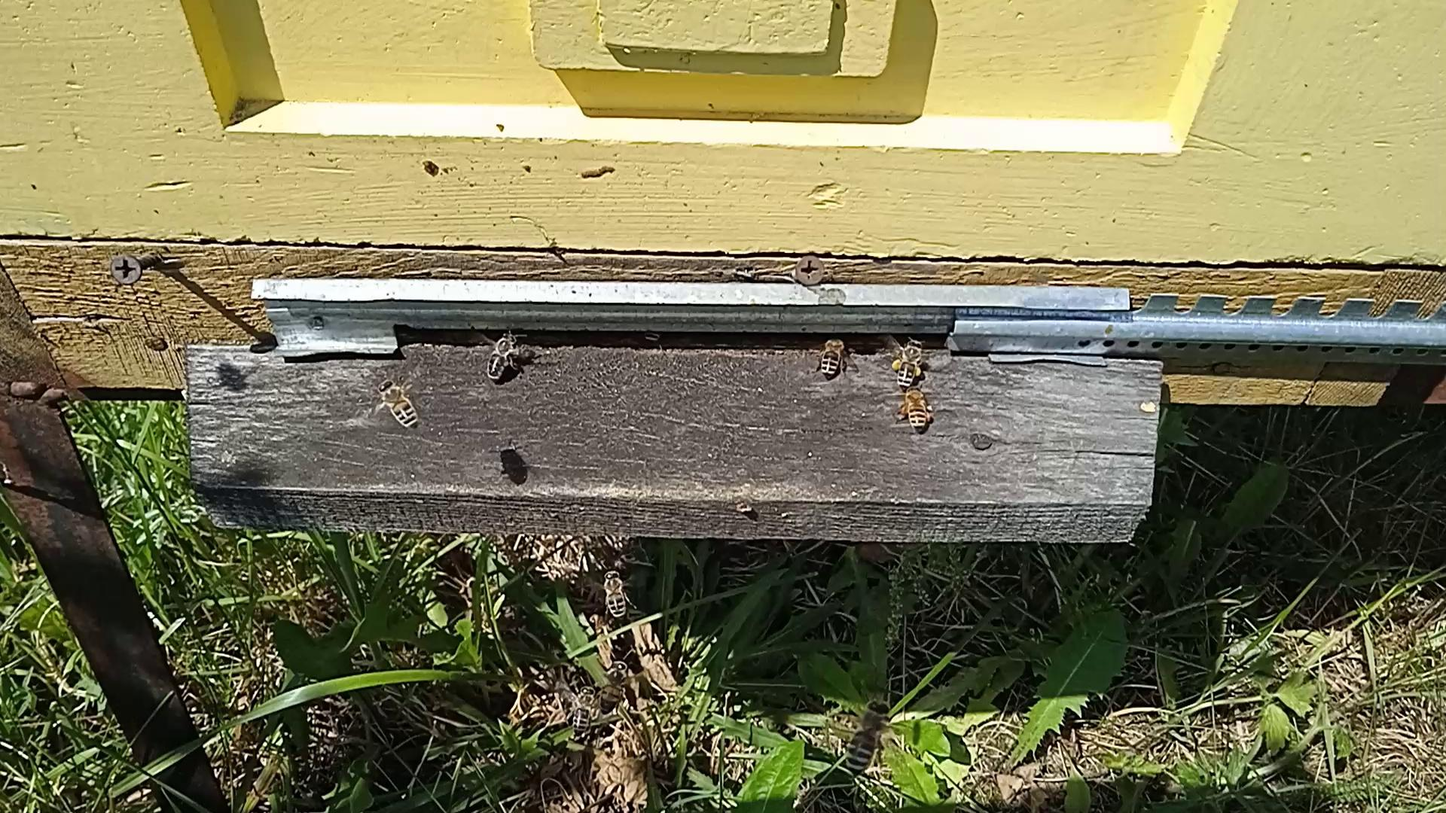worker-bee: (847, 699, 890, 776), (378, 379, 419, 429), (891, 340, 926, 390), (485, 333, 521, 380), (899, 384, 933, 433), (600, 568, 630, 619), (599, 662, 627, 713), (817, 335, 849, 379), (572, 687, 596, 735), (642, 331, 663, 346)
